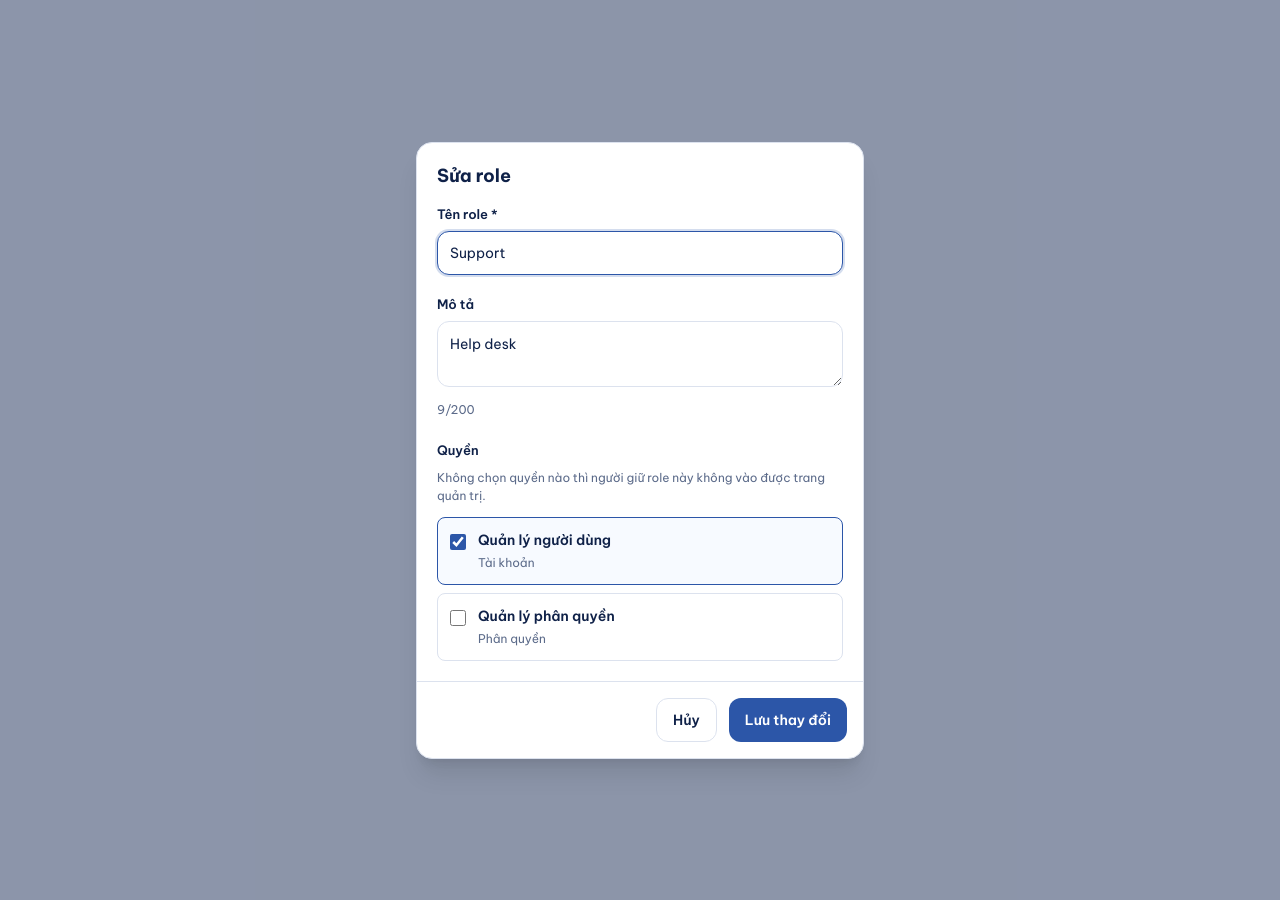
Test: A6 Roles contracts and governance safety › preserves role_name_exists error instead of weakening protection
Click the button "Lưu thay đổi" at x=788, y=720, box [729,698,847,742]
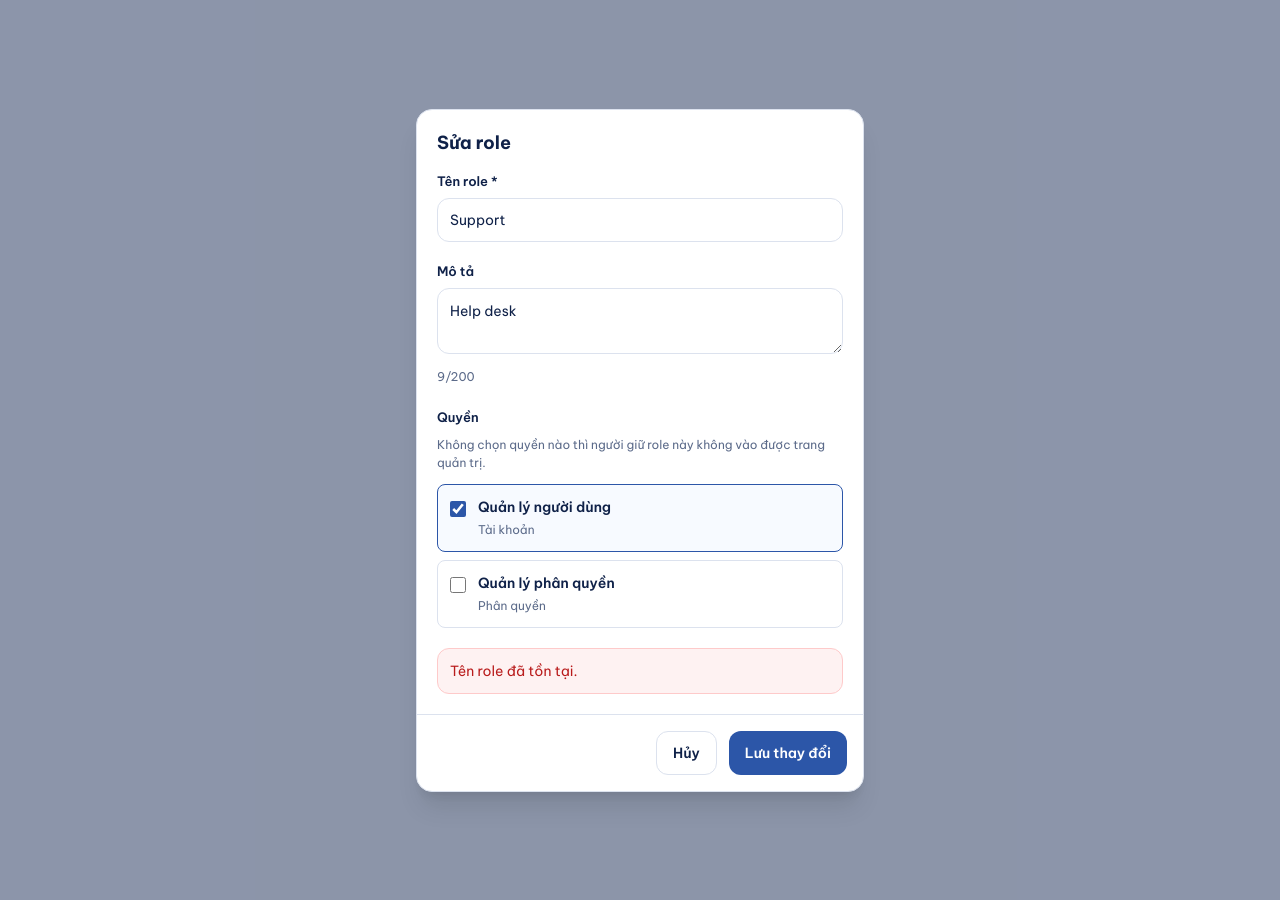
Check: the message "Tên role đã tồn tại." is not empty, box [437,648,843,694]
